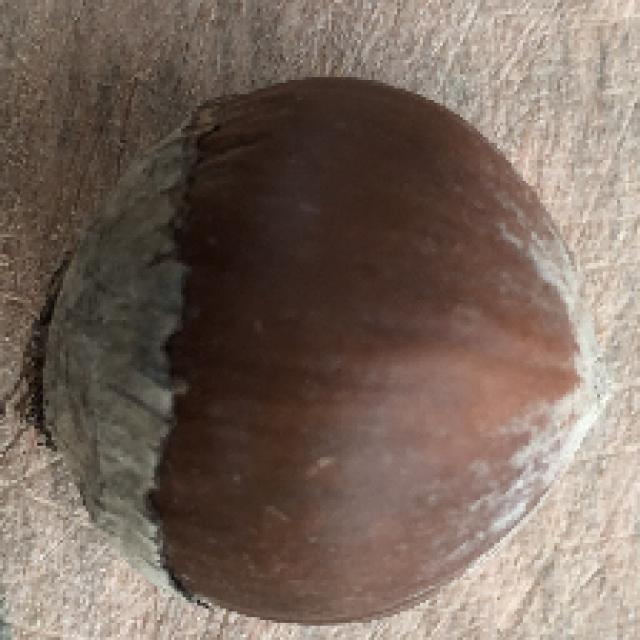damagedHazelnut: (16, 77, 605, 626)
